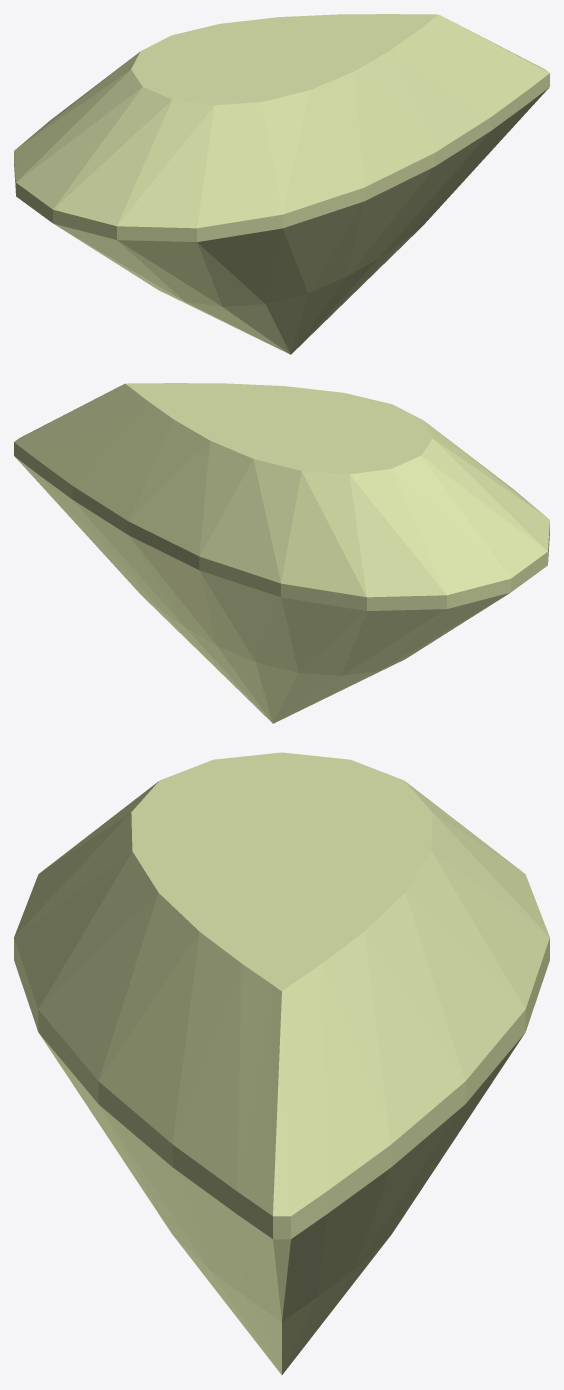
The model's file is titanite.glb.
3 views of the same model, one above another, from view 1: azimuth 30°, elevation 25°; view 2: azimuth 150°, elevation 25°; view 3: azimuth 270°, elevation 25° (orthographic). The views are drawn at different scales.
Visible parts, largest first — view 1: titanite; view 2: titanite; view 3: titanite.
Boxes of the visible parts, bbox=[...] form: titanite: bbox=[14, 14, 549, 354]; titanite: bbox=[14, 383, 549, 723]; titanite: bbox=[14, 752, 549, 1374].
Size of the model in its own units: 0.25 by 0.1418 by 0.1368.
